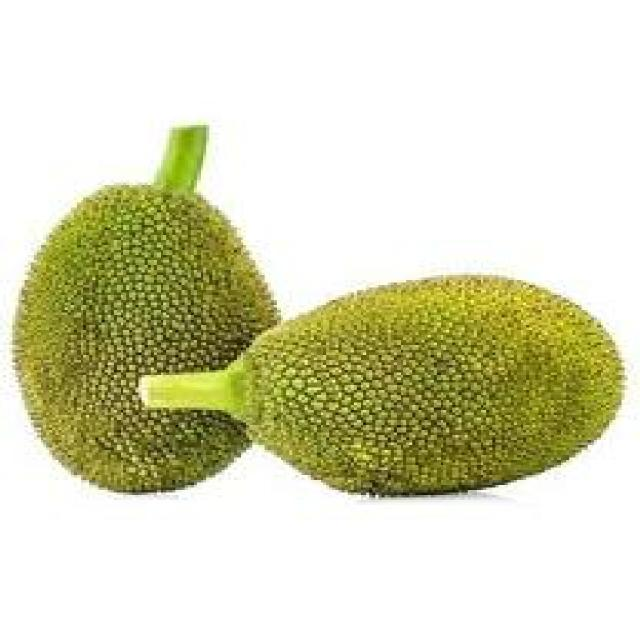Fruit: (215, 258, 637, 522), (0, 172, 305, 518)
